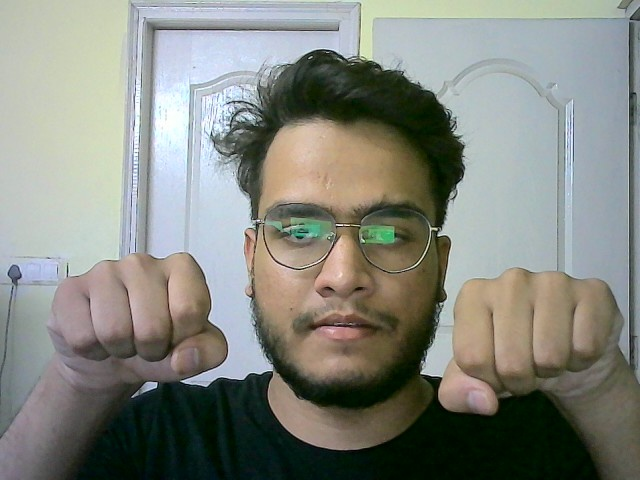Yes: (443, 260, 639, 421), (41, 239, 231, 394)
